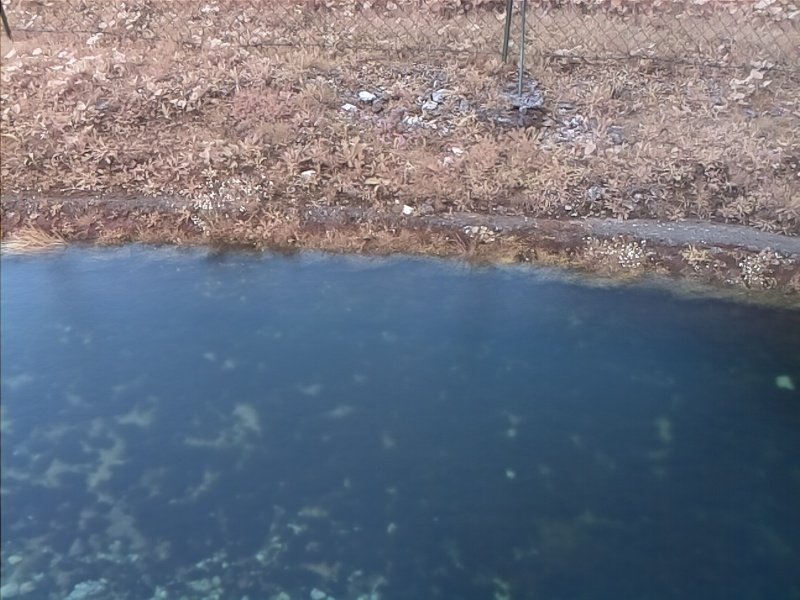Water: (2, 249, 800, 599)
